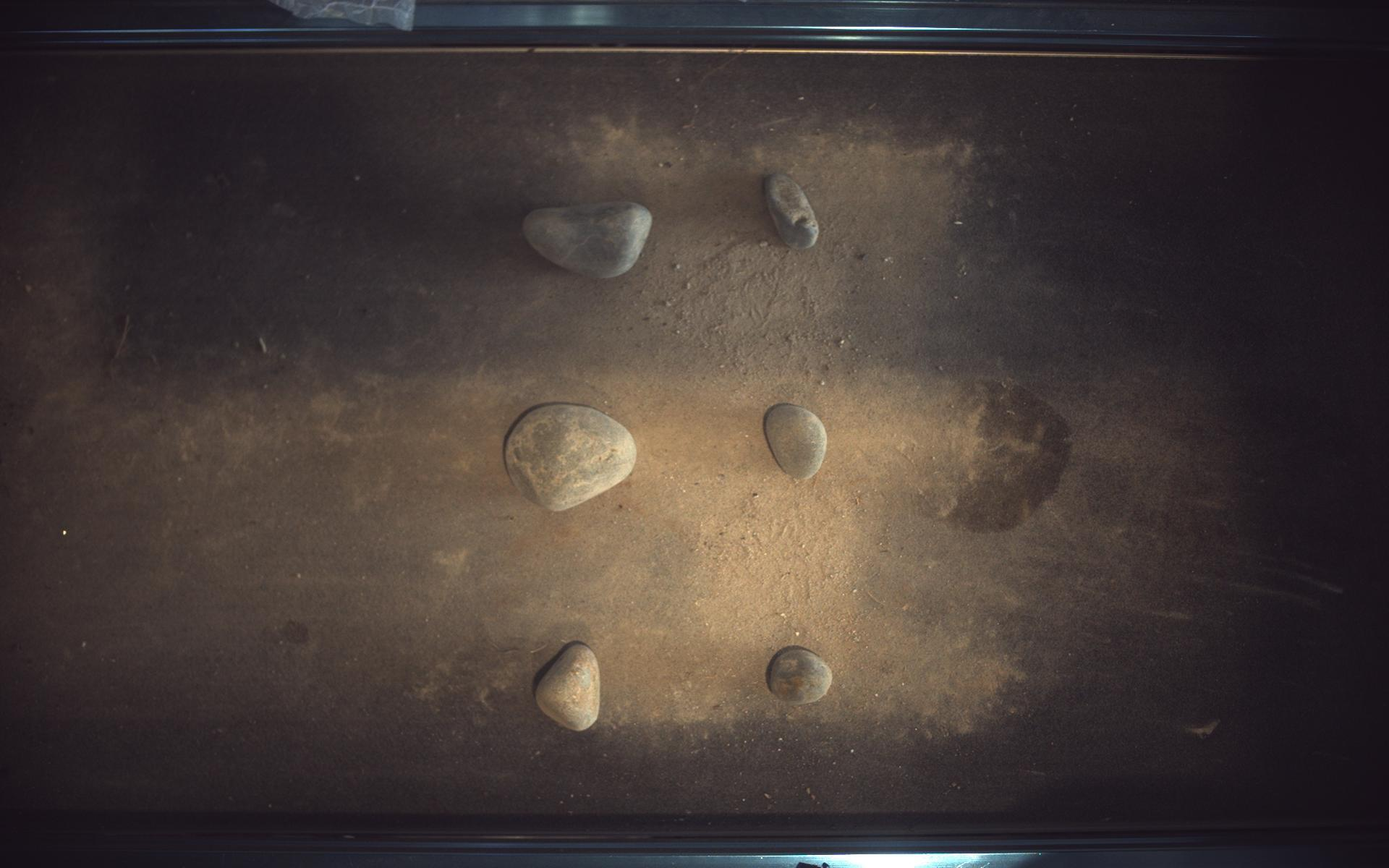stone: (505, 404, 637, 511), (523, 200, 653, 278), (536, 643, 601, 733), (765, 404, 829, 479), (765, 172, 820, 249), (768, 647, 833, 705)
